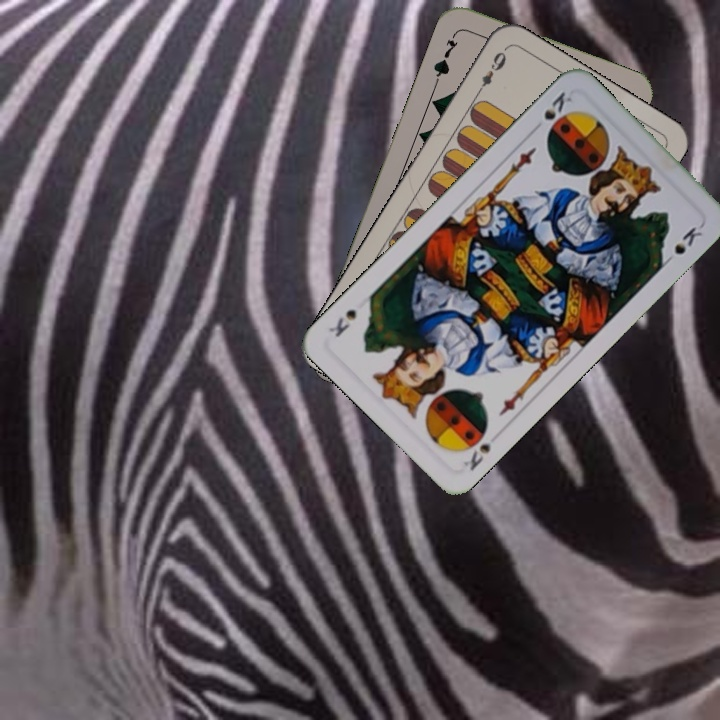E9: (472, 45, 509, 98)
G7: (429, 28, 461, 85)
SK: (540, 87, 575, 123), (459, 439, 493, 474)
